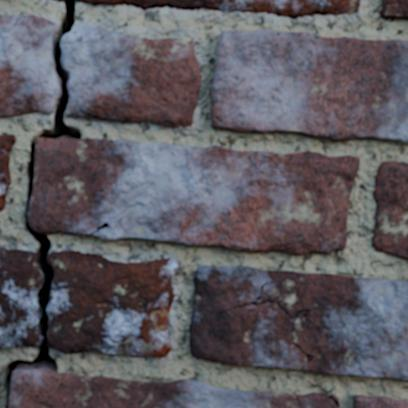brick: (28, 139, 358, 254), (189, 265, 407, 380), (210, 30, 407, 142), (9, 370, 297, 407), (372, 162, 407, 258), (0, 135, 14, 210), (353, 396, 407, 407), (298, 393, 336, 407), (380, 0, 407, 18)
broken_brick: (62, 22, 202, 128), (48, 249, 179, 357), (0, 14, 58, 116), (77, 0, 360, 19), (0, 247, 40, 348), (51, 0, 62, 2)
crack: (2, 0, 82, 407), (85, 222, 110, 236), (329, 394, 339, 407), (295, 395, 300, 407)
